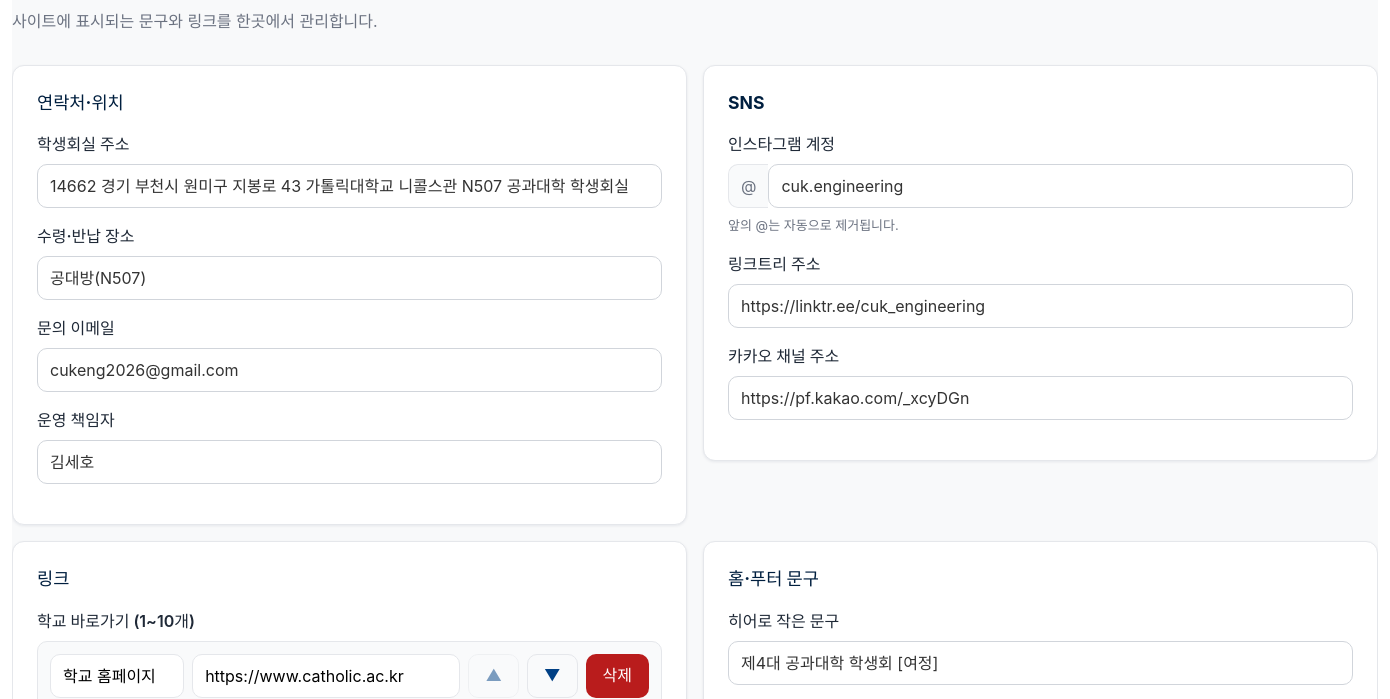
Test case: AdminSiteInfoPage › shows 400 errors and keeps input
Step 1. Replace the text in the field labelled "문의 이메일" with "bad" → (350, 370), box x1=37 y1=348 x2=662 y2=392
(page scrolled)
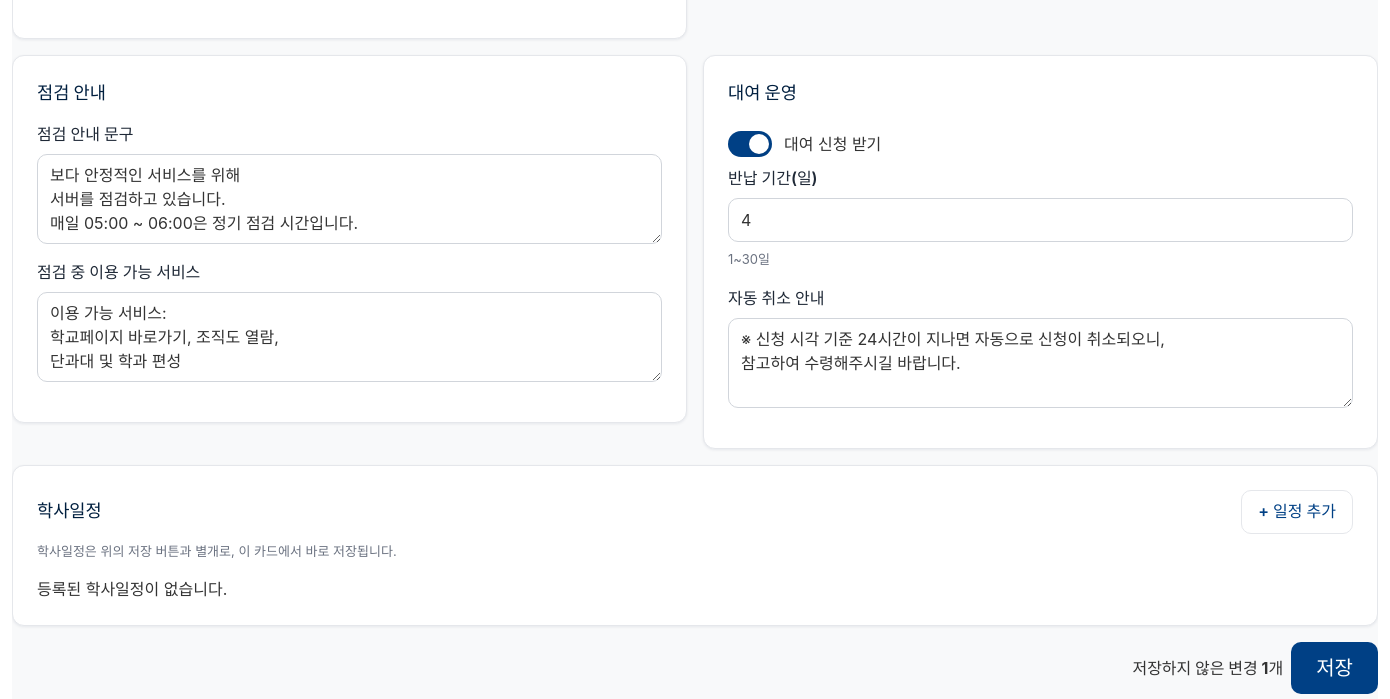
Step 2. Click the button "저장" → (1335, 668), box x1=1291 y1=642 x2=1378 y2=694
(page scrolled)
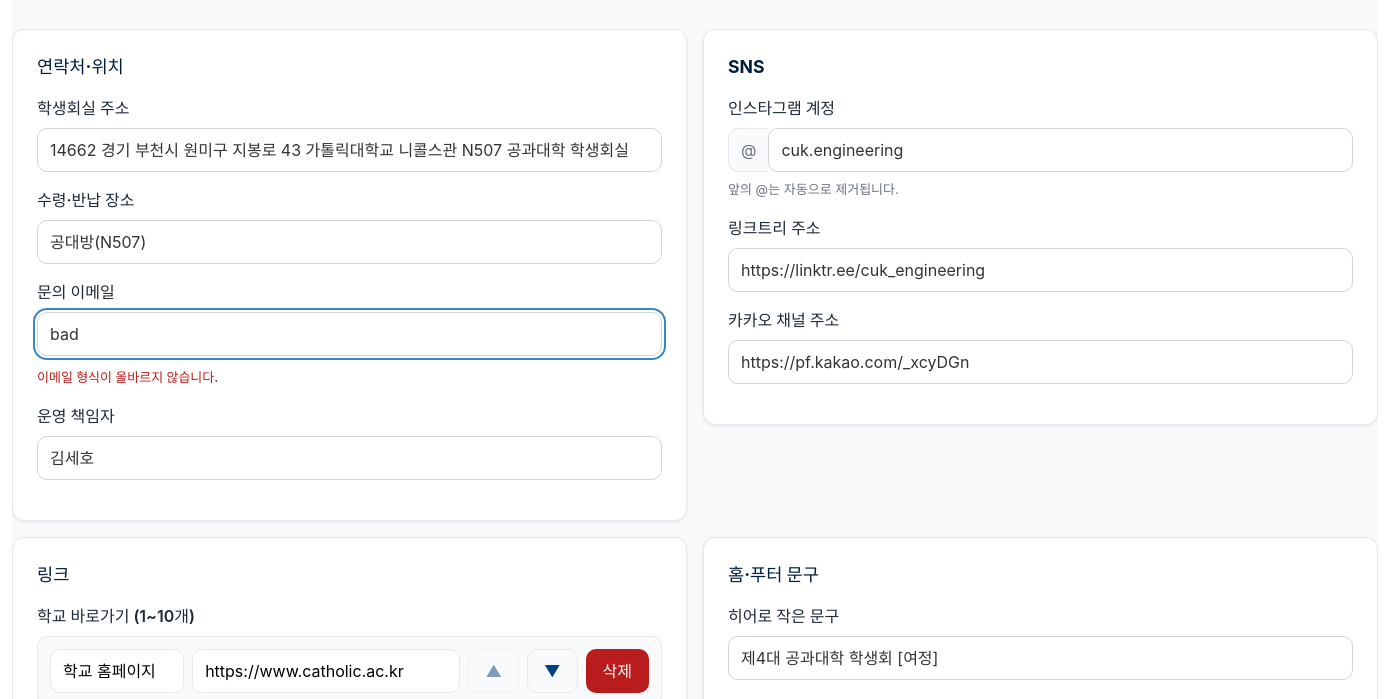
Expected: the text "이메일 형식이 올바르지 않습니다." is shown, x1=37 y1=369 x2=218 y2=385
